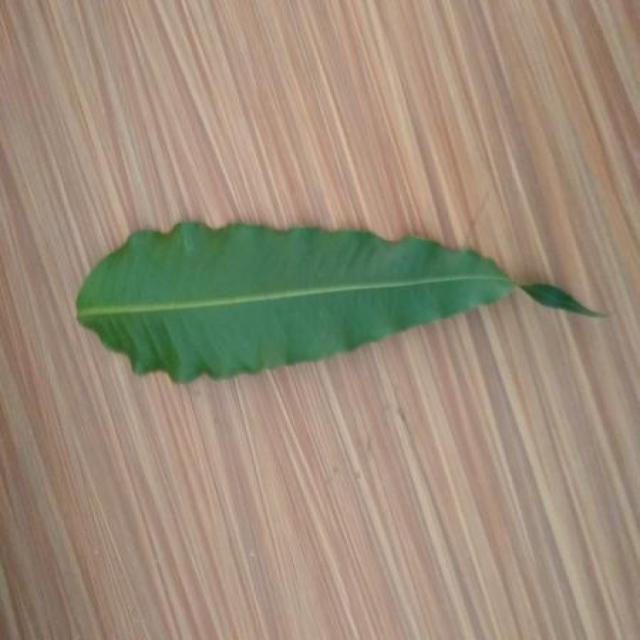ashoka: (78, 222, 626, 381), (77, 222, 517, 381)
